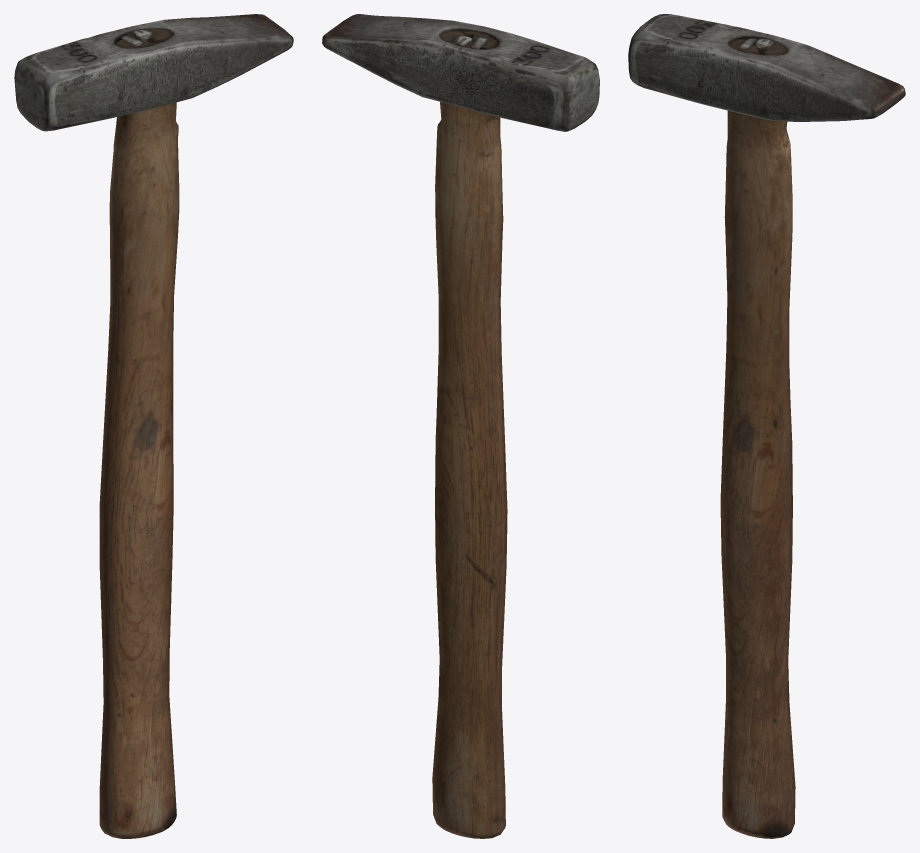
File: cross_pein_hammer_4k.gltf
3 renders of one model, left to right at view 1: azimuth 30°, elevation 25°; view 2: azimuth 150°, elevation 25°; view 3: azimuth 330°, elevation 25°, orthographic.
Visible parts, largest first — view 1: cross_pein_hammer; view 2: cross_pein_hammer; view 3: cross_pein_hammer.
Boxes of the visible parts, x1=… form: cross_pein_hammer: x1=14, y1=14, x2=293, y2=838; cross_pein_hammer: x1=322, y1=14, x2=599, y2=838; cross_pein_hammer: x1=628, y1=14, x2=905, y2=838.
Bounding box in the file's own units: 0.0991 × 0.3002 × 0.0243.
1 material, 1 textured.
